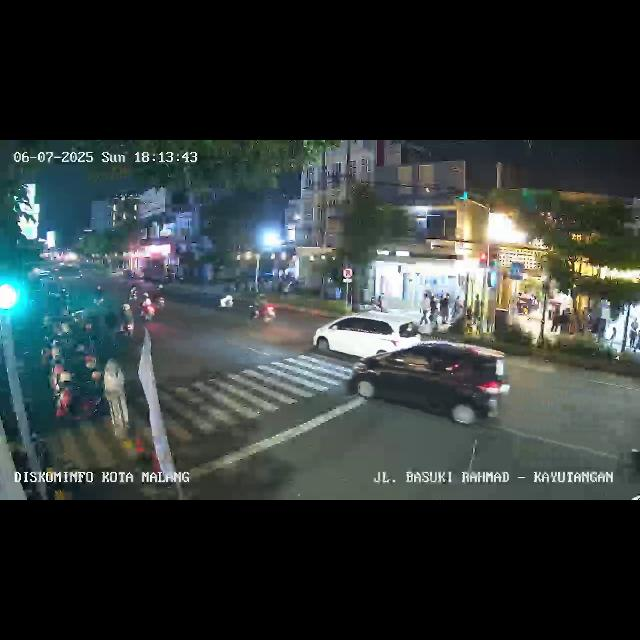car: (352, 339, 511, 431), (312, 308, 420, 358)
motorcycle: (250, 292, 276, 326), (134, 286, 158, 322), (114, 302, 138, 338), (218, 284, 236, 314), (151, 282, 169, 312)
person: (104, 358, 132, 438), (420, 290, 430, 328), (438, 294, 449, 326), (550, 302, 560, 336), (429, 296, 439, 326), (629, 316, 637, 348), (453, 295, 463, 315)
